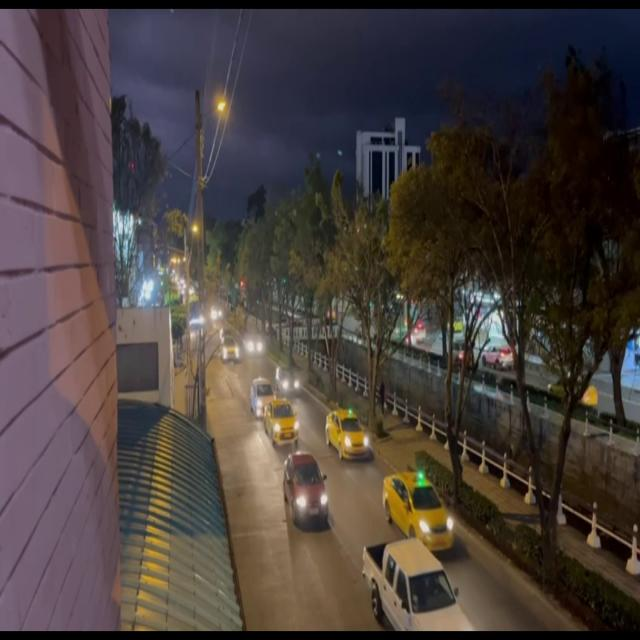CMT: (366, 539, 470, 637)
